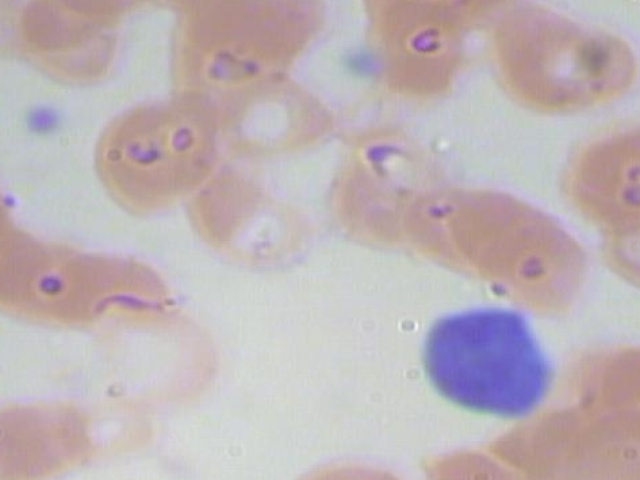Platelets: (335, 37, 383, 82), (20, 97, 68, 141)
RBC: (82, 91, 231, 228), (469, 0, 597, 122), (189, 171, 318, 286), (62, 226, 191, 340), (473, 218, 601, 322), (425, 177, 553, 281), (361, 163, 489, 266), (352, 3, 479, 106), (491, 388, 619, 480), (16, 0, 144, 90), (211, 72, 337, 163), (0, 222, 98, 333), (528, 15, 640, 105), (40, 391, 178, 464), (567, 109, 640, 244), (0, 402, 95, 480), (0, 213, 65, 324), (571, 329, 640, 433), (571, 388, 640, 480), (591, 193, 640, 296), (0, 180, 22, 291)
WBC: (392, 299, 554, 434)
